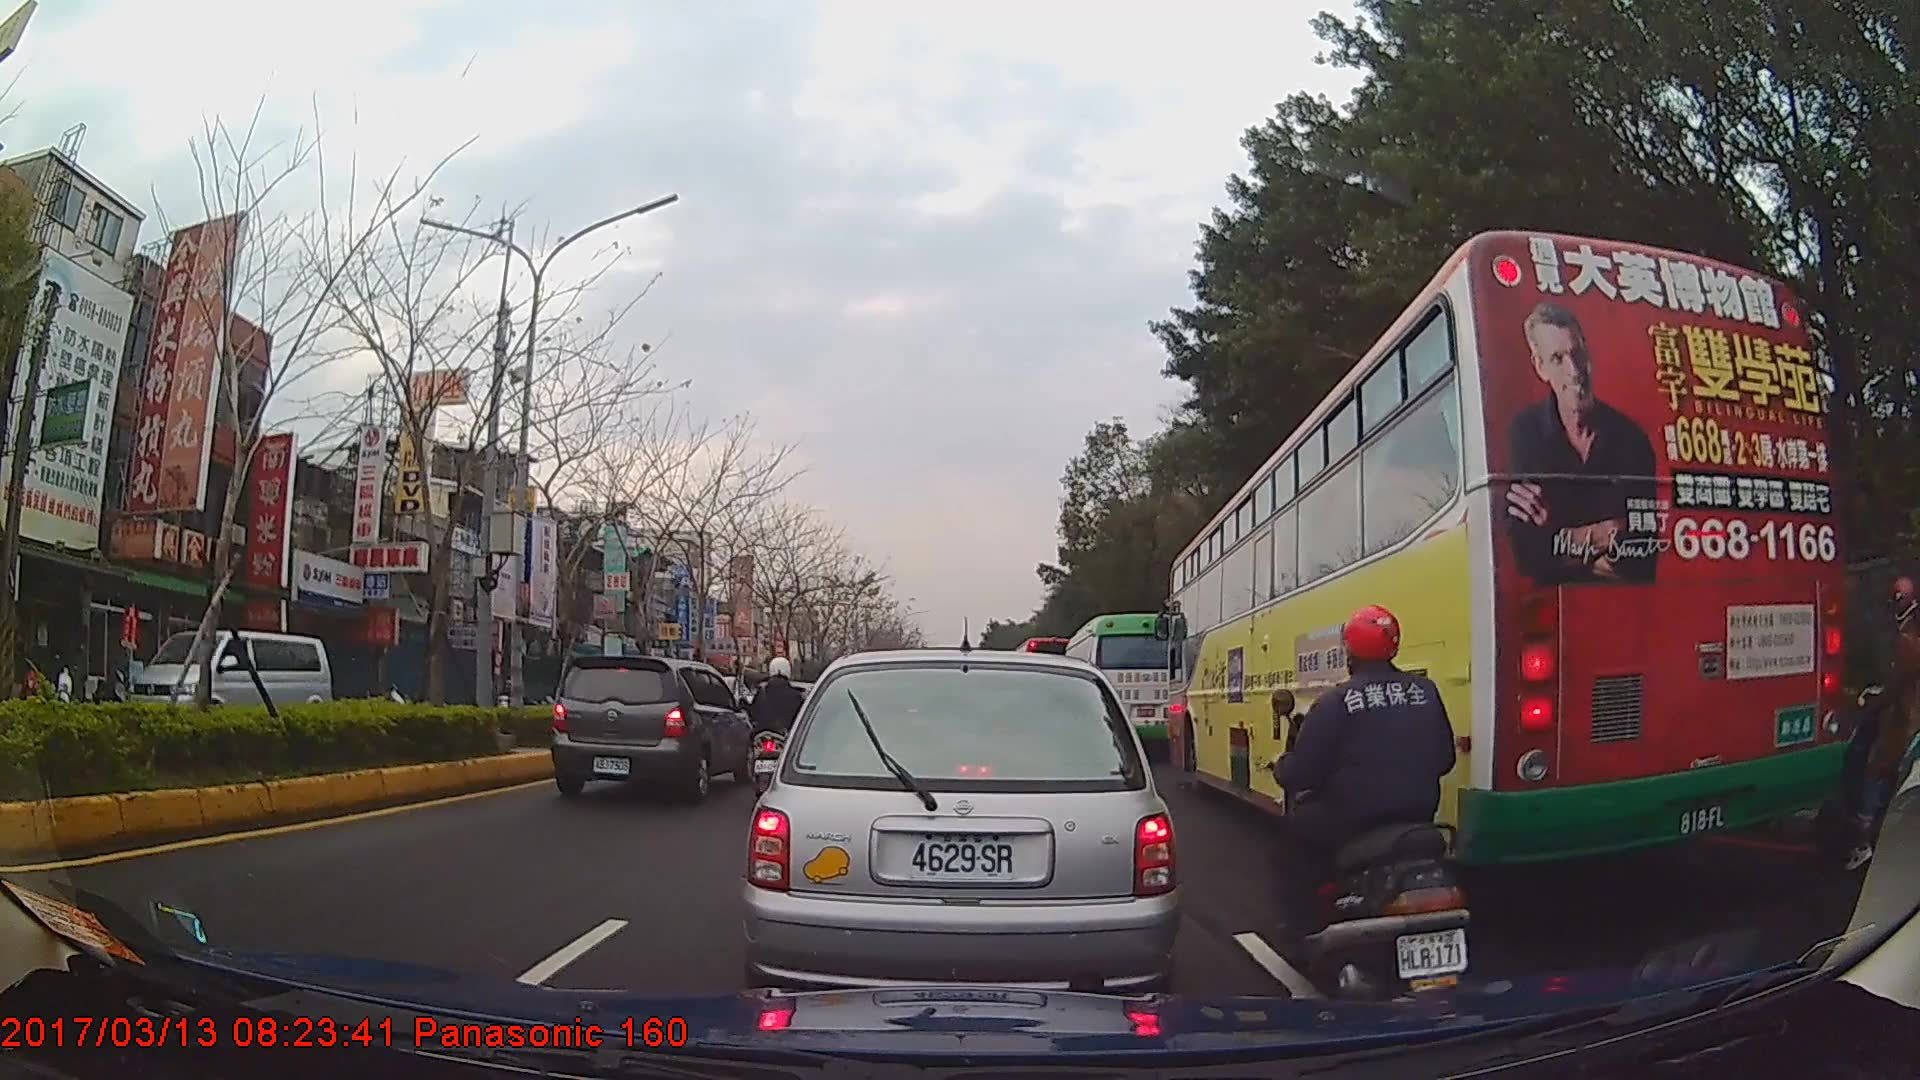rider: (1263, 601, 1473, 1011), (1825, 577, 1920, 875), (745, 657, 810, 787)
vehicle: (1167, 226, 1848, 875), (744, 649, 1180, 1010), (549, 656, 754, 800), (126, 630, 330, 748), (1060, 611, 1183, 756)
